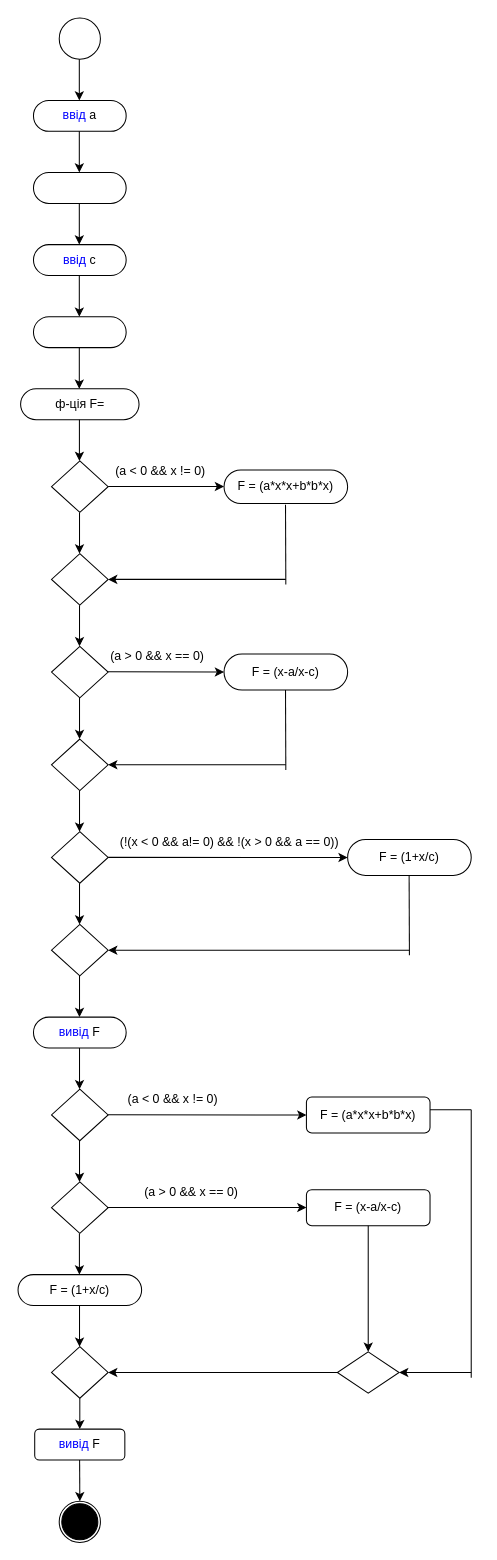
Some shapes in this 497 by 1560 pixel diagram are drawn without their labels. The shapes that lost their labels are listed below. From the top down, each one's centre as x and y in pixels, then its label:
(x=79, y=187): ввід b
(x=79, y=332): ввід x
